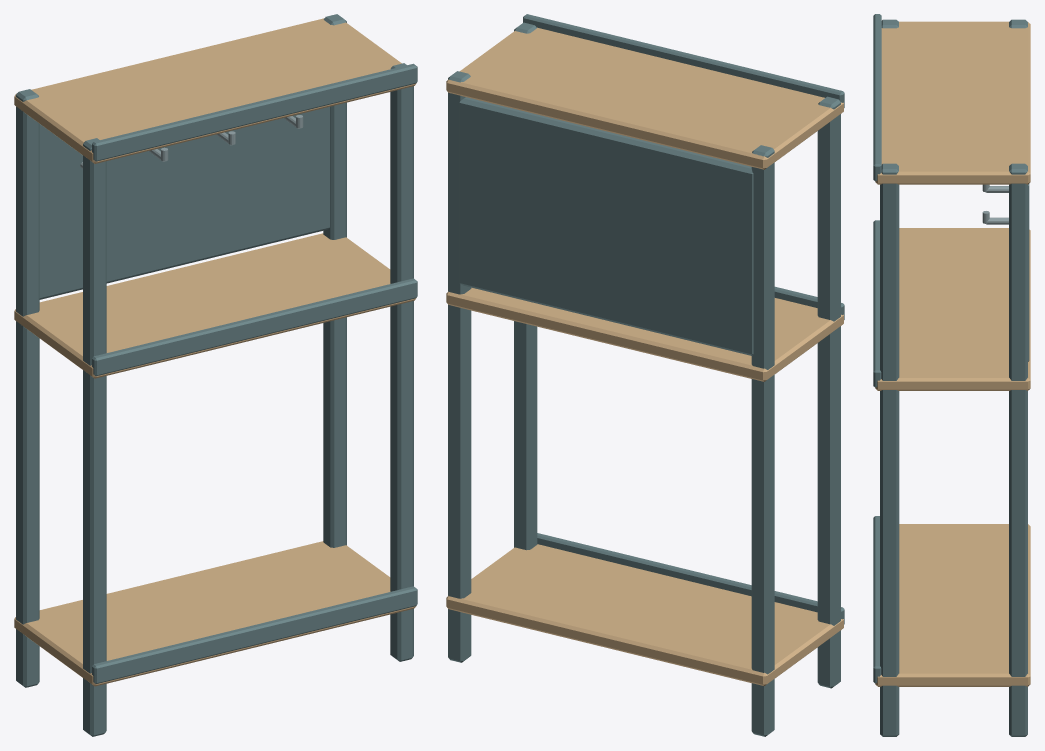
The model's file is Storage-ToolRack.fbx.
3 views of the same model, side by side, from view 1: azimuth 30°, elevation 25°; view 2: azimuth 150°, elevation 25°; view 3: azimuth 270°, elevation 25° (orthographic). The views are drawn at different scales.
Parts seen in each view (by area): view 1: Tool Backboard, Birch Shelf.002, Birch Shelf.001, Birch Shelf, Rack Upright, Rack Upright.001, Rack Upright.003, Rack Upright.002, Shelf Lip.001, Shelf Lip, Shelf Lip.002; view 2: Tool Backboard, Birch Shelf.002, Birch Shelf, Rack Upright.001, Rack Upright, Rack Upright.002, Birch Shelf.001, Rack Upright.003, Shelf Lip.002, Shelf Lip; view 3: Birch Shelf.002, Birch Shelf, Birch Shelf.001, Rack Upright.003, Rack Upright.002, Shelf Lip.002, Shelf Lip.001, Shelf Lip, Tool Backboard.
Part boxes in pixels (bbox=[...]): Tool Backboard: bbox=[39, 106, 329, 299]; Birch Shelf.002: bbox=[14, 18, 416, 163]; Birch Shelf.001: bbox=[14, 233, 416, 378]; Birch Shelf: bbox=[14, 541, 416, 686]; Rack Upright: bbox=[16, 89, 39, 687]; Rack Upright.001: bbox=[83, 138, 106, 736]; Rack Upright.003: bbox=[390, 63, 413, 661]; Rack Upright.002: bbox=[323, 14, 346, 547]; Shelf Lip.001: bbox=[92, 278, 417, 376]; Shelf Lip: bbox=[92, 586, 417, 683]; Shelf Lip.002: bbox=[92, 63, 417, 161]; Tool Backboard: bbox=[459, 97, 753, 355]; Birch Shelf.002: bbox=[446, 27, 843, 169]; Birch Shelf: bbox=[446, 544, 843, 686]; Rack Upright.001: bbox=[817, 96, 840, 688]; Rack Upright: bbox=[751, 145, 774, 736]; Rack Upright.002: bbox=[448, 71, 471, 662]; Birch Shelf.001: bbox=[446, 287, 843, 381]; Rack Upright.003: bbox=[514, 22, 537, 550]; Shelf Lip.002: bbox=[523, 14, 844, 107]; Shelf Lip: bbox=[537, 533, 844, 624]; Birch Shelf.002: bbox=[875, 21, 1030, 184]; Birch Shelf: bbox=[875, 524, 1030, 686]; Birch Shelf.001: bbox=[875, 228, 1030, 390]; Rack Upright.003: bbox=[880, 163, 899, 736]; Rack Upright.002: bbox=[1009, 163, 1027, 736]; Shelf Lip.002: bbox=[873, 14, 881, 181]; Shelf Lip.001: bbox=[873, 220, 881, 387]; Shelf Lip: bbox=[873, 516, 881, 683]; Tool Backboard: bbox=[1028, 184, 1029, 361].
Bounding box in the file's own units: 0.769 × 1.35 × 0.336.
